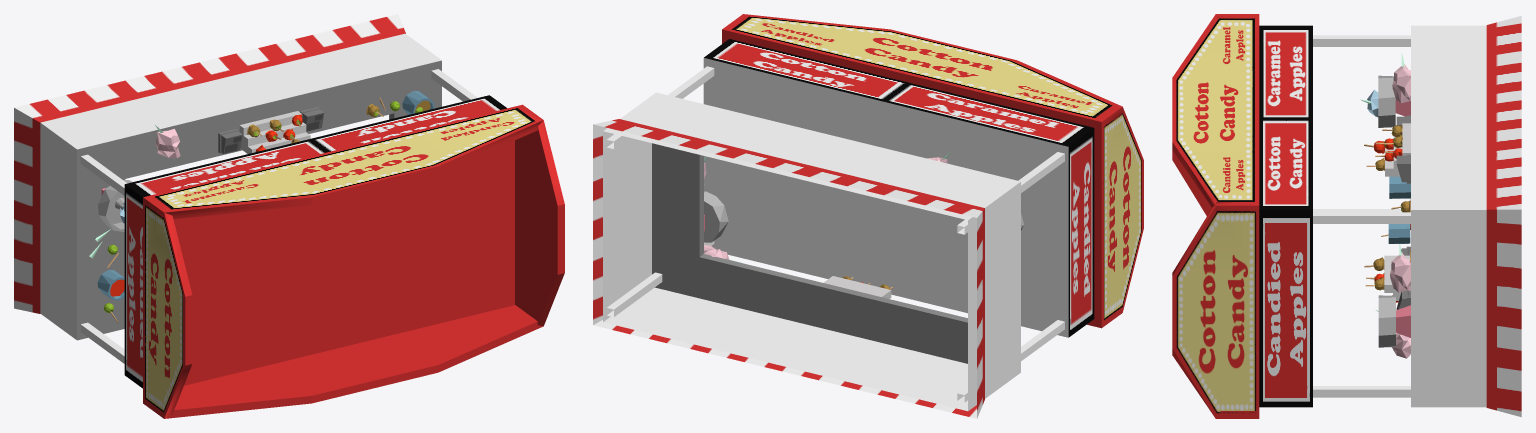
Rendered from cotton candy.fbx.
3 views of the same model, side by side, from view 1: azimuth 30°, elevation 25°; view 2: azimuth 150°, elevation 25°; view 3: azimuth 270°, elevation 25° (orthographic). The views are drawn at different scales.
Parts seen in each view (by area): view 1: Cube.006, Cube, Cube.001, Cube.028, Cylinder.001, Cylinder, Cone.004, Cylinder.002, Cylinder.003, Cube.005; view 2: Cube, Cube.006, Cube.001, Cylinder.001, Cube.028; view 3: Cube, Cube.006, Cube.001, Cylinder.001, Cone.004, Cylinder, Cube.028, Cylinder.003, Cylinder.002, Cube.002.
Part boxes in pixels (x1,y1,x2,y2): Cube.006: [143, 104, 564, 418]; Cube: [40, 33, 515, 388]; Cube.001: [14, 14, 405, 313]; Cube.028: [239, 111, 310, 153]; Cylinder.001: [98, 180, 132, 231]; Cylinder: [247, 104, 383, 151]; Cone.004: [89, 125, 180, 258]; Cylinder.002: [97, 270, 124, 300]; Cylinder.003: [402, 91, 434, 114]; Cube.005: [218, 129, 242, 154]; Cube: [603, 39, 1094, 411]; Cube.006: [722, 14, 1143, 328]; Cube.001: [593, 119, 984, 418]; Cylinder.001: [704, 191, 1023, 242]; Cube.028: [823, 276, 891, 298]; Cube: [1259, 25, 1486, 407]; Cube.006: [1172, 14, 1259, 418]; Cube.001: [1486, 15, 1521, 417]; Cylinder.001: [1378, 75, 1410, 347]; Cone.004: [1360, 52, 1410, 358]; Cylinder: [1364, 125, 1410, 302]; Cube.028: [1384, 123, 1410, 300]; Cylinder.003: [1388, 224, 1410, 243]; Cylinder.002: [1389, 176, 1410, 198]; Cube.002: [1396, 154, 1410, 183].
Size of the model in its own units: 526 by 275 by 401.
11 materials, 11 textured.
